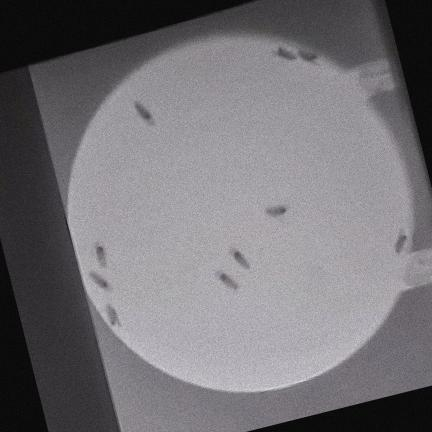fly: (88, 270, 110, 291), (134, 101, 153, 125), (215, 271, 237, 289), (104, 304, 120, 326), (231, 249, 249, 268), (271, 46, 295, 60), (93, 243, 106, 267), (297, 49, 317, 64), (394, 230, 406, 253), (264, 205, 286, 217)
